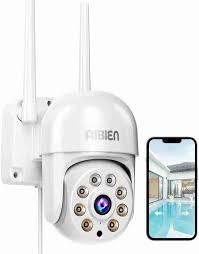maru: (46, 155, 134, 243)
